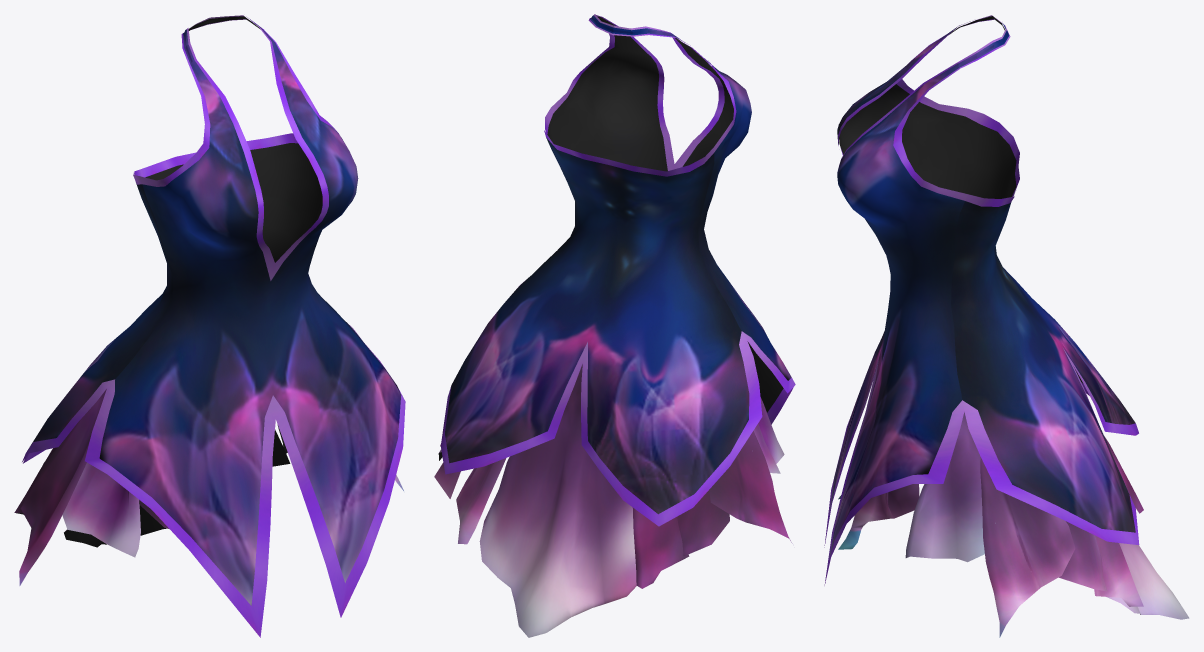
3 renders of one model, left to right at view 1: azimuth 30°, elevation 25°; view 2: azimuth 150°, elevation 25°; view 3: azimuth 270°, elevation 25°, orthographic. The views are drawn at different scales.
Parts seen in each view (by area): view 1: HS_Dress_01; view 2: HS_Dress_01; view 3: HS_Dress_01.
Part boxes in pixels (box(x1,y1,x2,y2)): HS_Dress_01: box(14, 15, 405, 637); HS_Dress_01: box(434, 14, 795, 637); HS_Dress_01: box(824, 15, 1189, 637).
Bounding box in the file's own units: 399 × 590 × 331.
Materials: 1 (1 with a texture image).
